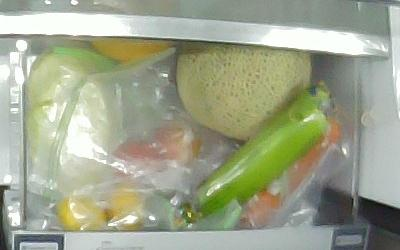cabbage_vinyl: (25, 47, 111, 195)
carrot_vinyl: (239, 117, 340, 230)
melon: (175, 41, 312, 142)
pear: (92, 39, 175, 61)
prune_vinyl: (114, 138, 168, 178), (157, 123, 203, 164)
tangerine_vinyl: (55, 195, 107, 232), (107, 184, 145, 230)
zucchini_vinyl: (170, 79, 336, 230)
